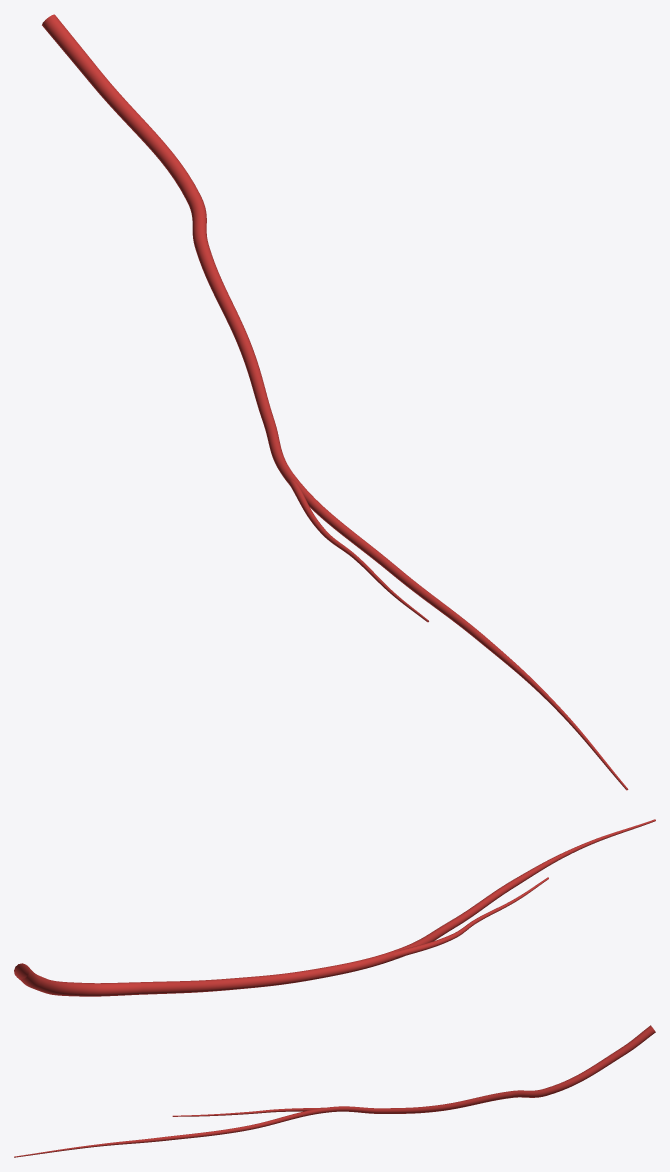
3 renders of one model, top to bottom at view 1: azimuth 30°, elevation 25°; view 2: azimuth 150°, elevation 25°; view 3: azimuth 270°, elevation 25°, orthographic. The views are drawn at different scales.
Parts seen in each view (by area): view 1: 右侧腹壁浅动脉; view 2: 右侧腹壁浅动脉; view 3: 右侧腹壁浅动脉.
Part boxes in pixels (x1=…): 右侧腹壁浅动脉: x1=42, y1=14, x2=628, y2=790; 右侧腹壁浅动脉: x1=14, y1=819, x2=655, y2=996; 右侧腹壁浅动脉: x1=14, y1=1025, x2=655, y2=1157.
Bounding box in the file's own units: 0.0435 × 0.0821 × 0.3247.
